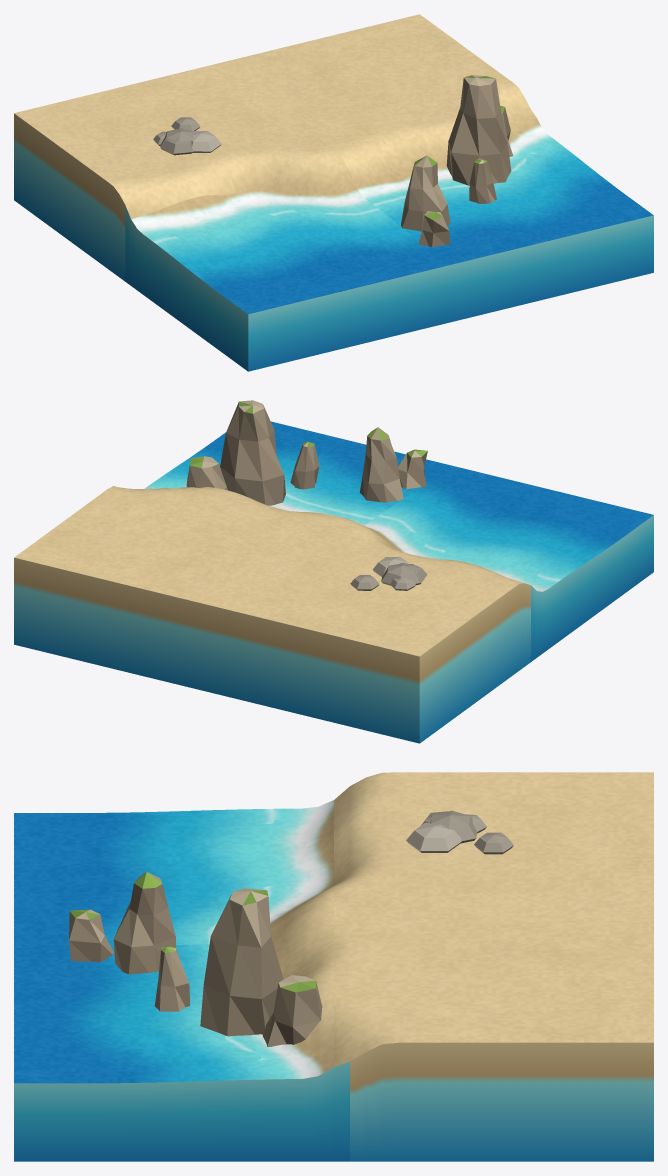
File: Coast_Rocks.obj
3 renders of one model, top to bottom at view 1: azimuth 30°, elevation 25°; view 2: azimuth 150°, elevation 25°; view 3: azimuth 270°, elevation 25°, orthographic. The views are drawn at different scales.
Parts seen in each view (by area): view 1: Coast_Rocks_Coast_Rocks_Terrain, Coast_Rocks_Palette; view 2: Coast_Rocks_Coast_Rocks_Terrain, Coast_Rocks_Palette; view 3: Coast_Rocks_Coast_Rocks_Terrain, Coast_Rocks_Palette.
Boxes of the visible parts, x1,y1,x2,y2 form: Coast_Rocks_Coast_Rocks_Terrain: (14,14,653,314); Coast_Rocks_Palette: (14,75,653,371); Coast_Rocks_Coast_Rocks_Terrain: (14,421,653,656); Coast_Rocks_Palette: (14,400,653,743); Coast_Rocks_Coast_Rocks_Terrain: (14,772,653,1083); Coast_Rocks_Palette: (14,810,653,1161).
Bounding box in the file's own units: 4 × 1.45 × 4.
Materials: 2 (2 with a texture image).
